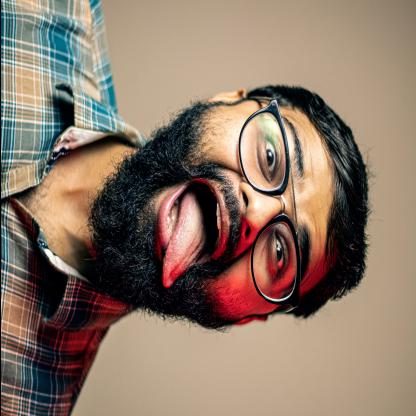Eye: (259, 132, 280, 182), (268, 230, 288, 280)
Mouth: (155, 178, 228, 288)
Nose: (238, 182, 280, 244)
